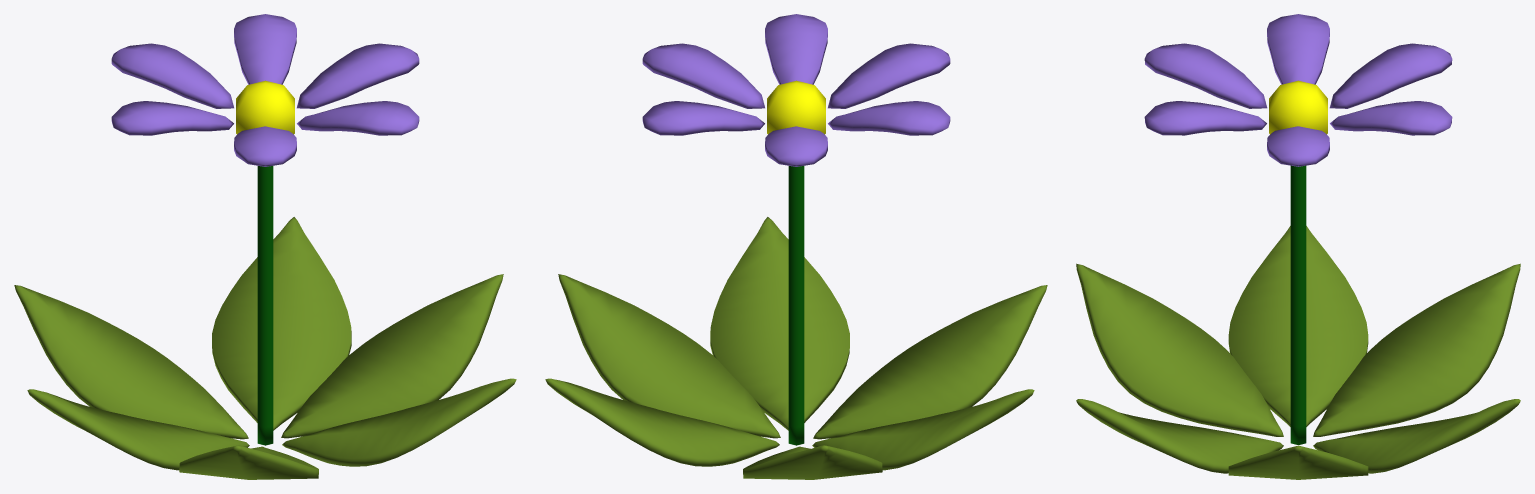
File: hepatica_0001.obj
3 views of the same model, side by side, from view 1: azimuth 30°, elevation 25°; view 2: azimuth 150°, elevation 25°; view 3: azimuth 270°, elevation 25° (orthographic).
Parts seen in each view (by area): view 1: hepatica_0001; view 2: hepatica_0001; view 3: hepatica_0001.
Part boxes in pixels (x1,y1,x2,y2): hepatica_0001: (14,14,516,479); hepatica_0001: (545,14,1047,479); hepatica_0001: (1076,14,1520,479).
Size of the model in its own units: 3.06 by 2.22 by 2.48.
1 material, 1 textured.
